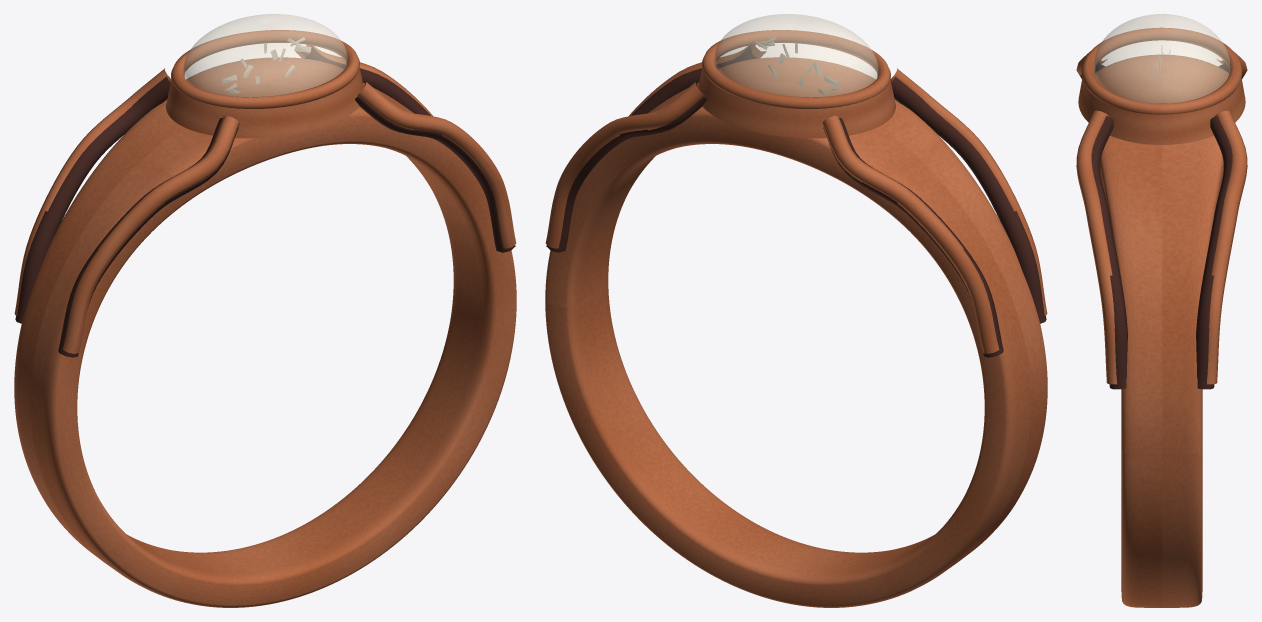
Rendered from ember_ring.glb.
3 views of the same model, side by side, from view 1: azimuth 30°, elevation 25°; view 2: azimuth 150°, elevation 25°; view 3: azimuth 270°, elevation 25° (orthographic).
Visible parts, largest first — view 1: Worn red copper, Clouded clear quartz, Oxidized copper recesses, Quartz pale inclusions; view 2: Worn red copper, Clouded clear quartz, Oxidized copper recesses; view 3: Worn red copper, Clouded clear quartz, Oxidized copper recesses.
Part boxes in pixels (x1,y1,x2,y2): Worn red copper: [14, 30, 516, 607]; Clouded clear quartz: [183, 14, 347, 97]; Oxidized copper recesses: [15, 45, 515, 357]; Quartz pale inclusions: [222, 37, 311, 94]; Worn red copper: [545, 30, 1047, 607]; Clouded clear quartz: [714, 14, 878, 97]; Oxidized copper recesses: [546, 45, 1046, 357]; Worn red copper: [1076, 27, 1247, 607]; Clouded clear quartz: [1093, 14, 1230, 103]; Oxidized copper recesses: [1080, 62, 1243, 389].
Bounding box in the file's own units: 0.023 × 0.0264 × 0.00738.
Materials: 4 (2 with a texture image).
